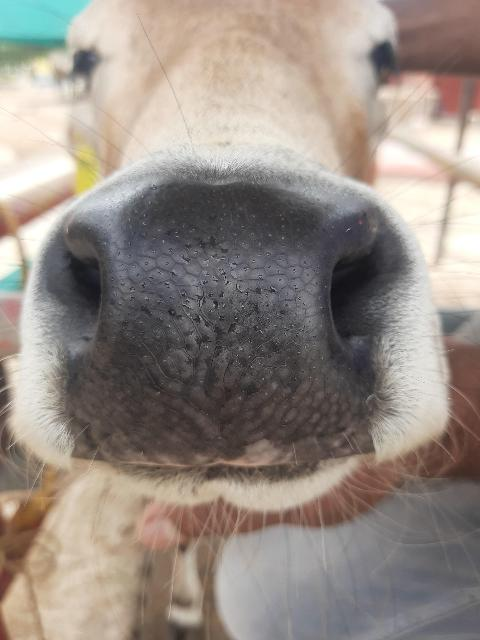Muzzle: (100, 215, 336, 448)
